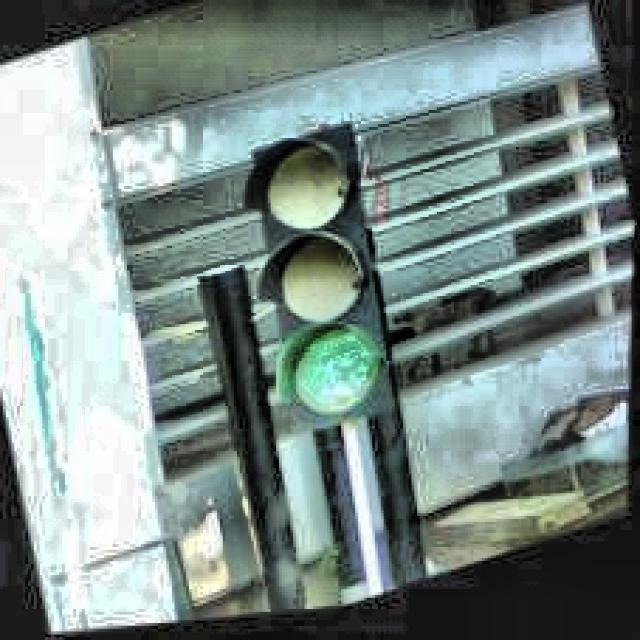green: (223, 122, 420, 452)
